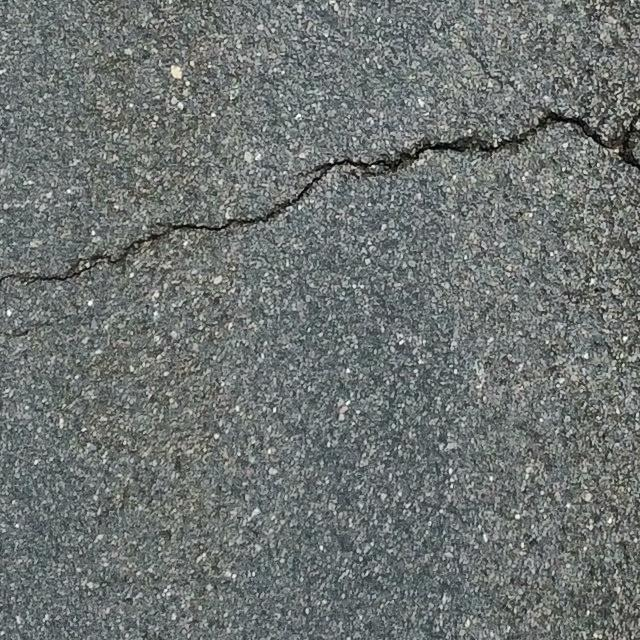TransverseCrack: (1, 112, 640, 284)
